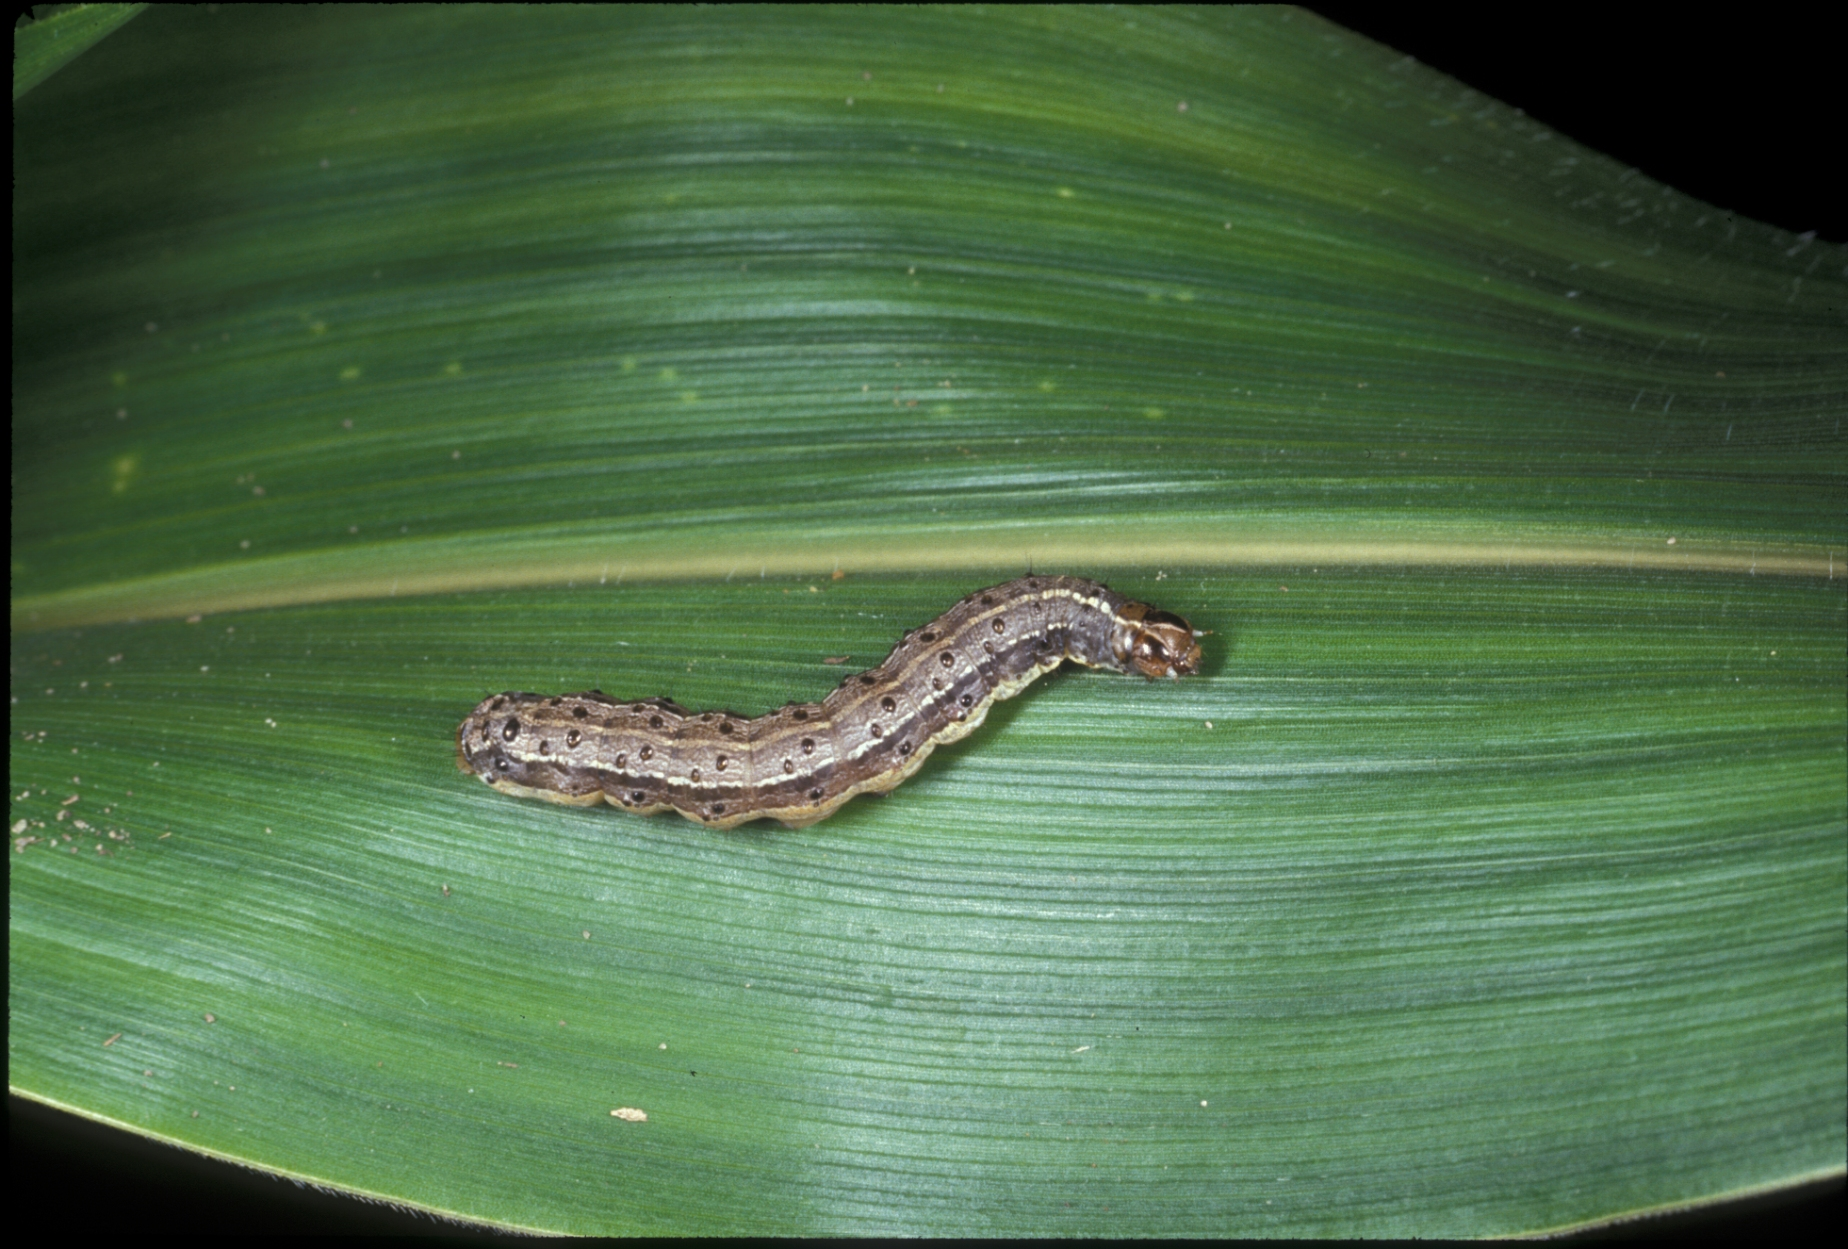Armyworm: (434, 525, 1232, 850)
